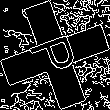P_E: (25, 29, 85, 81)
